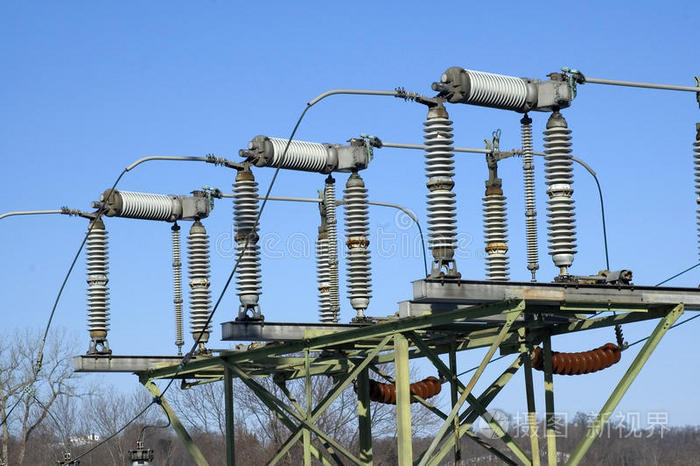insulator: (531, 346, 626, 375), (364, 378, 445, 406)
